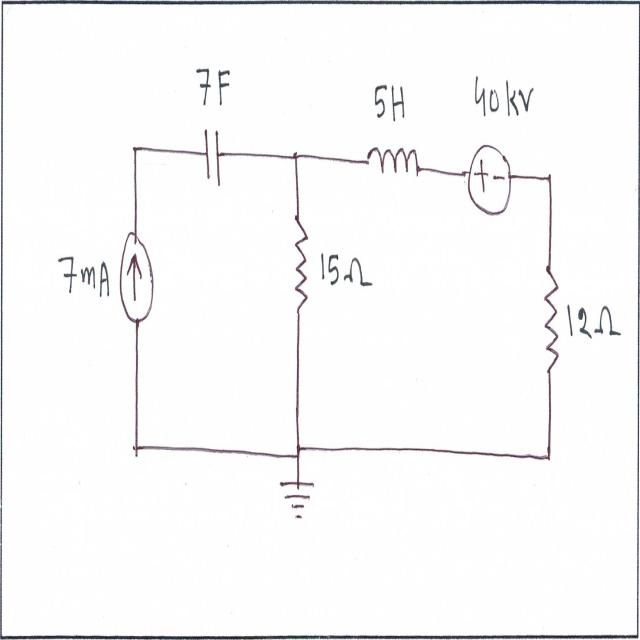capacitor: (200, 120, 226, 189)
current_source: (114, 224, 155, 342)
ground: (276, 478, 318, 535)
inductor: (358, 120, 425, 189)
resistor: (539, 261, 564, 383), (290, 211, 313, 320)
voltage_source: (462, 139, 518, 223)
